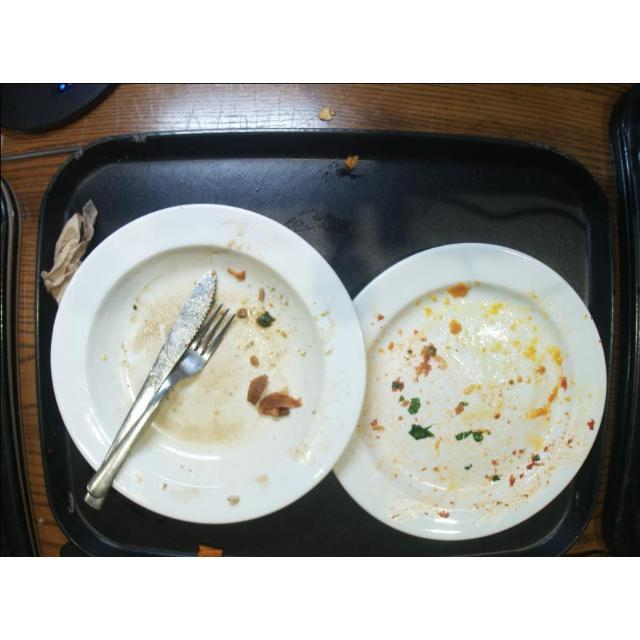plate: (52, 197, 368, 523), (313, 238, 607, 542), (74, 285, 252, 515), (81, 264, 221, 511)
